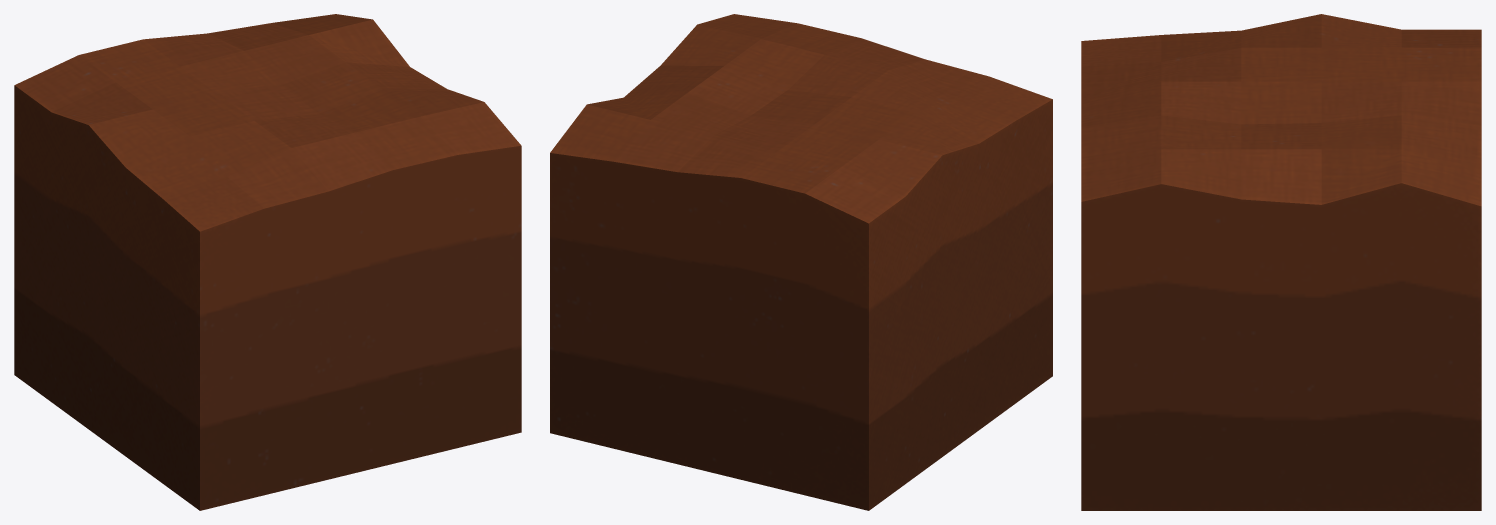
File: Concepts_18.fbx
3 views of the same model, side by side, from view 1: azimuth 30°, elevation 25°; view 2: azimuth 150°, elevation 25°; view 3: azimuth 270°, elevation 25° (orthographic). The views are drawn at different scales.
Parts seen in each view (by area): view 1: Cube.027; view 2: Cube.027; view 3: Cube.027.
Part boxes in pixels (<box>): Cube.027: <box>14,14,521,510</box>; Cube.027: <box>550,14,1052,510</box>; Cube.027: <box>1081,14,1481,510</box>.
Size of the model in its own units: 301 by 272 by 301.
